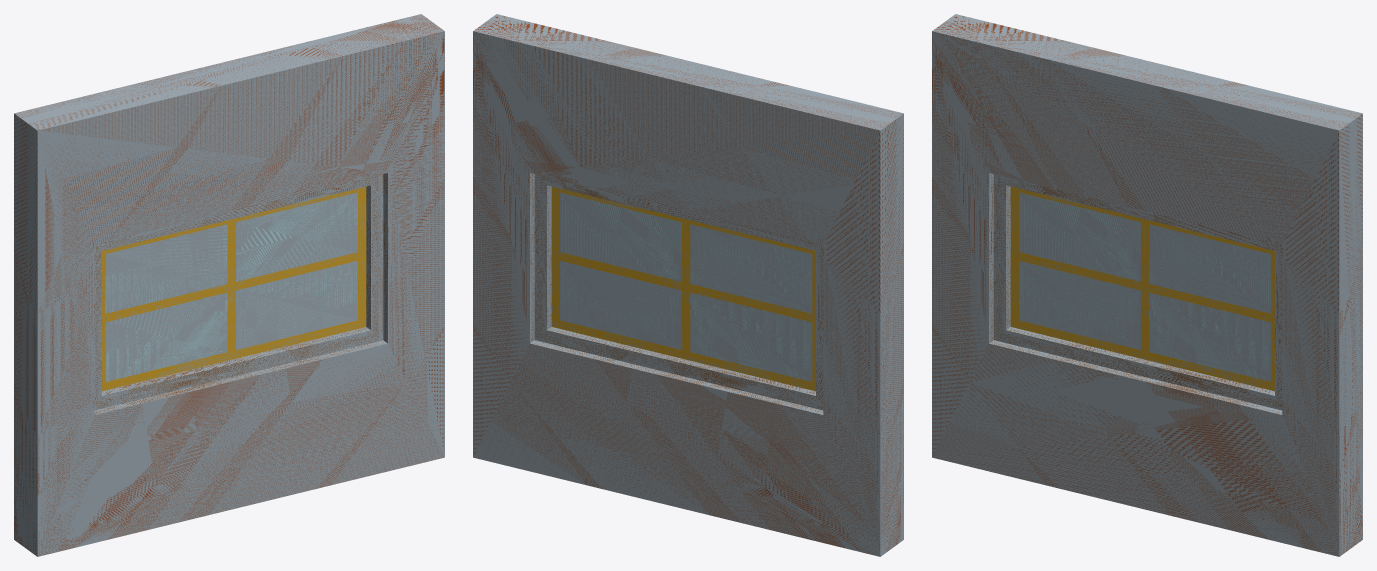
The model's file is wall_window_3.fbx.
3 views of the same model, side by side, from view 1: azimuth 30°, elevation 25°; view 2: azimuth 150°, elevation 25°; view 3: azimuth 330°, elevation 25° (orthographic).
Visible parts, largest first — view 1: Mesh1_window_1_1 Model; view 2: Mesh1_window_1_1 Model; view 3: Mesh1_window_1_1 Model.
Part boxes in pixels (bbox=[...]): Mesh1_window_1_1 Model: bbox=[14, 14, 444, 556]; Mesh1_window_1_1 Model: bbox=[473, 14, 903, 556]; Mesh1_window_1_1 Model: bbox=[932, 14, 1362, 556].
Bounding box in the file's own units: 1 × 1 × 0.1.
